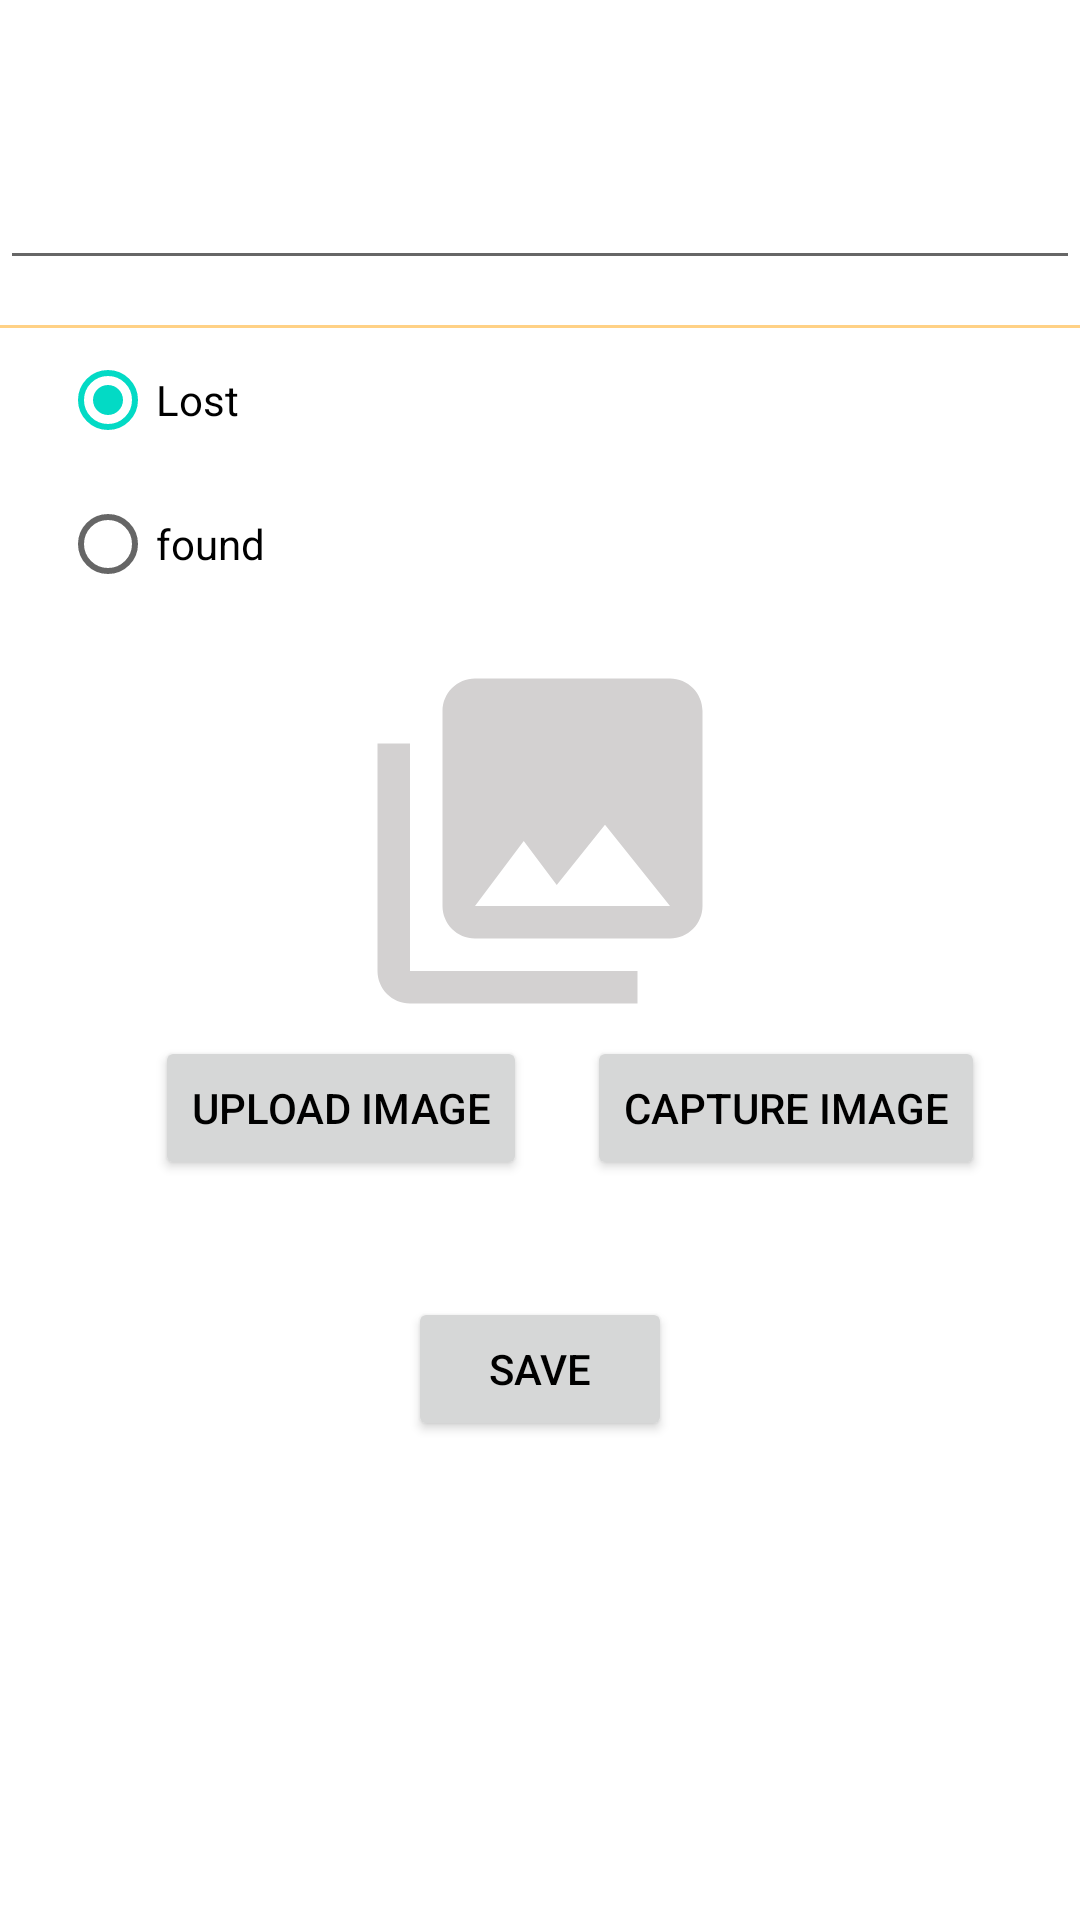

Where icons sit on this 1080 x 1920 app screen, as box(x1, y1, x2, y2):
gallery: box(378, 679, 702, 1003)
